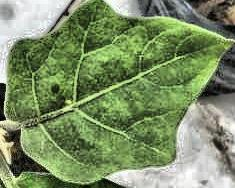HEALTHY: (1, 0, 235, 188)
